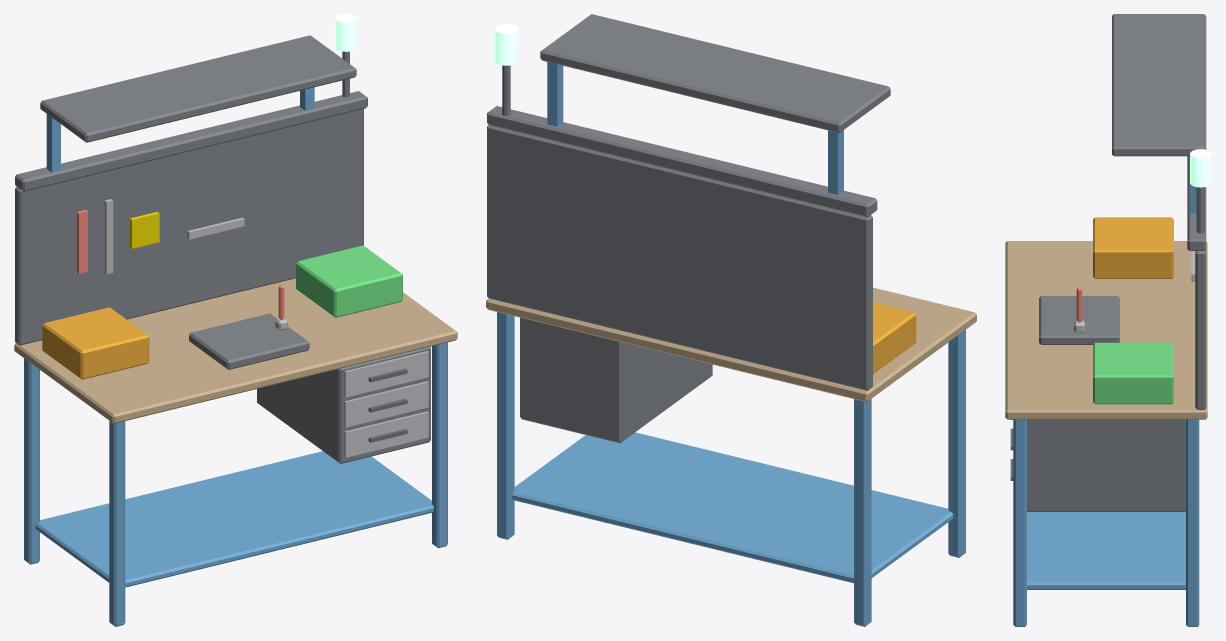
Rendered from posto_medio.glb.
The picture shows the model from 3 angles, left to right: view 1: azimuth 30°, elevation 25°; view 2: azimuth 150°, elevation 25°; view 3: azimuth 270°, elevation 25°; orthographic projection. The views are drawn at different scales.
Visible parts, largest first — view 1: estrutura, luz; view 2: estrutura, luz; view 3: estrutura, luz, grampo.
Boxes of the visible parts, left/top/right/bottom form: estrutura: left=14, top=35, right=457, bottom=626; luz: left=335, top=14, right=356, bottom=51; estrutura: left=486, top=14, right=976, bottom=626; luz: left=494, top=24, right=517, bottom=65; estrutura: left=1005, top=14, right=1207, bottom=626; luz: left=1190, top=149, right=1211, bottom=187; grampo: left=1074, top=287, right=1084, bottom=332.
Size of the model in its own units: 1.5 by 1.92 by 0.765.
